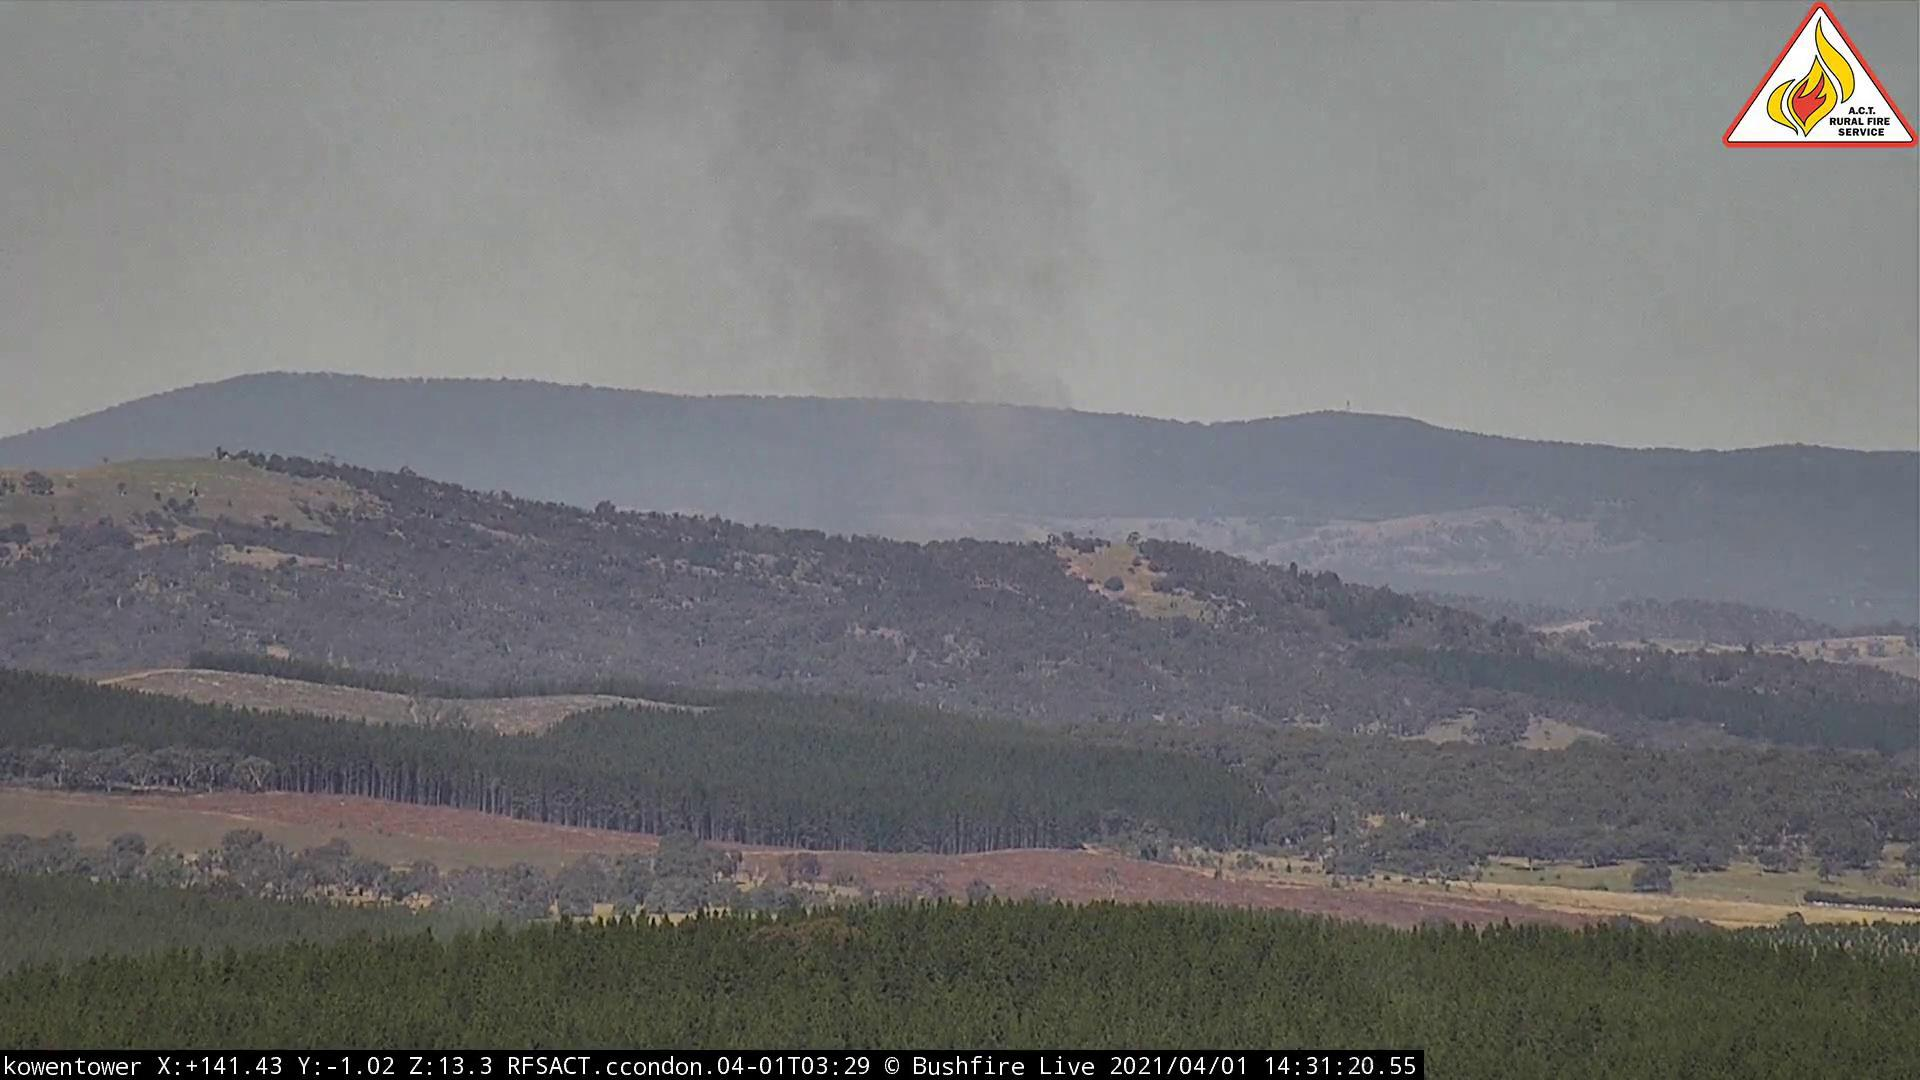Smoke: (483, 3, 1118, 549)
